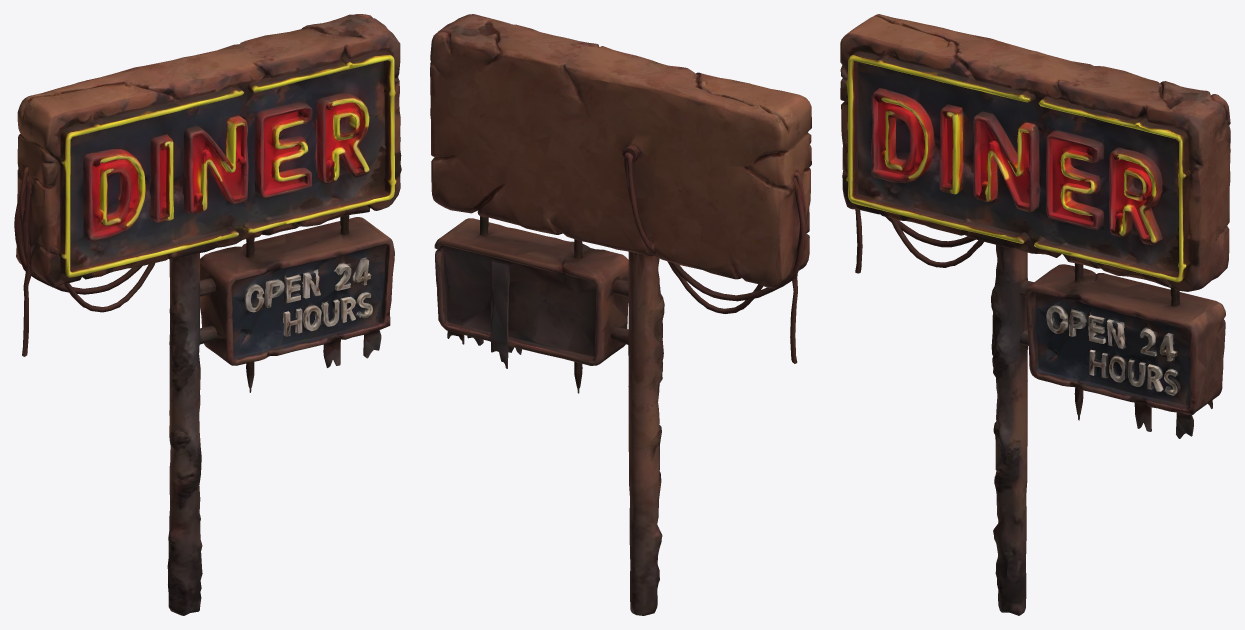
File: sign_diner_b_idle.glb
3 renders of one model, left to right at view 1: azimuth 30°, elevation 25°; view 2: azimuth 150°, elevation 25°; view 3: azimuth 330°, elevation 25°, orthographic. The views are drawn at different scales.
Visible parts, largest first — view 1: tripo_node_439e22d8-3979-455e-8f03-d9aaa12b6838; view 2: tripo_node_439e22d8-3979-455e-8f03-d9aaa12b6838; view 3: tripo_node_439e22d8-3979-455e-8f03-d9aaa12b6838.
Boxes of the visible parts, <box> form: tripo_node_439e22d8-3979-455e-8f03-d9aaa12b6838: <box>14,14,401,615</box>; tripo_node_439e22d8-3979-455e-8f03-d9aaa12b6838: <box>430,14,811,615</box>; tripo_node_439e22d8-3979-455e-8f03-d9aaa12b6838: <box>840,14,1230,615</box>.
Size of the model in its own units: 3.52 by 5 by 0.7415.
Materials: 1 (1 with a texture image).
